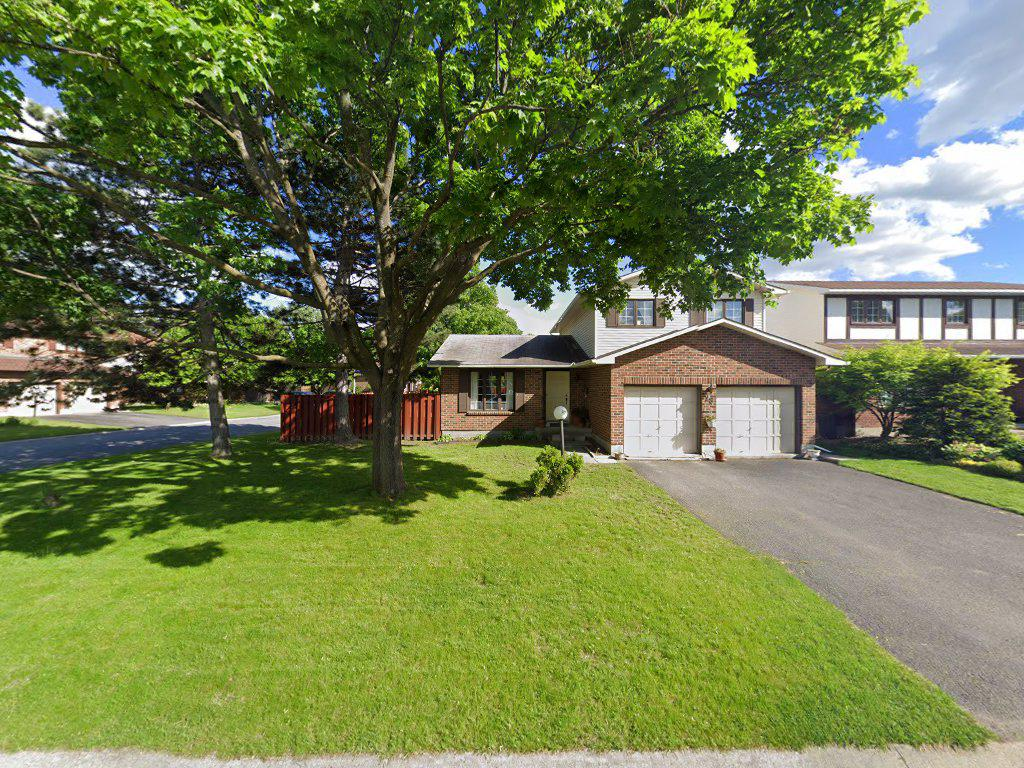trunk: (351, 318, 419, 509), (196, 316, 231, 466)
